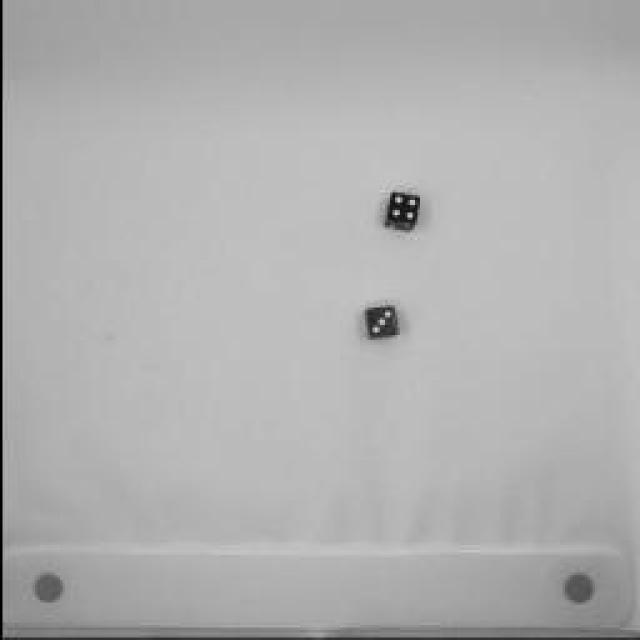dice_3: (358, 302, 402, 350)
dice_4: (378, 185, 428, 240)
